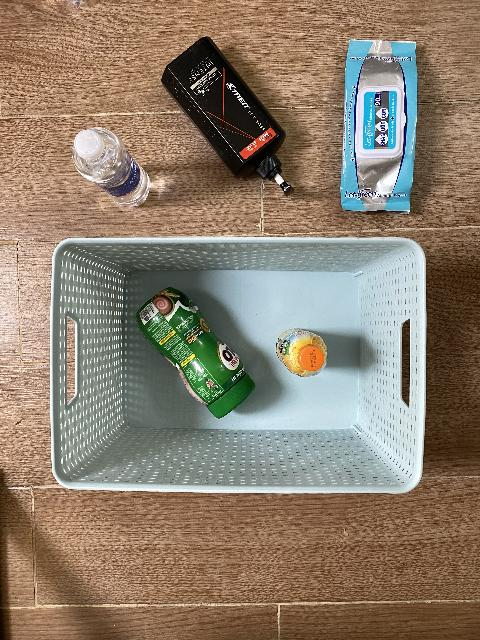Let-green_alcohol_wipes: (340, 40, 418, 213)
X-men: (161, 37, 294, 197)
aquafina: (71, 127, 150, 207)
cart: (48, 236, 427, 496)
milo: (136, 287, 256, 419)
teppy_orange_juice: (276, 328, 328, 378)
